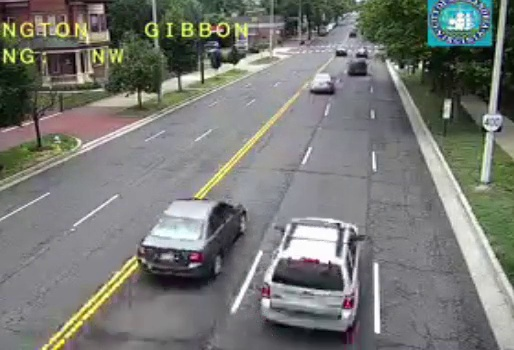car: (261, 217, 361, 333), (137, 198, 245, 278), (311, 74, 333, 92)
